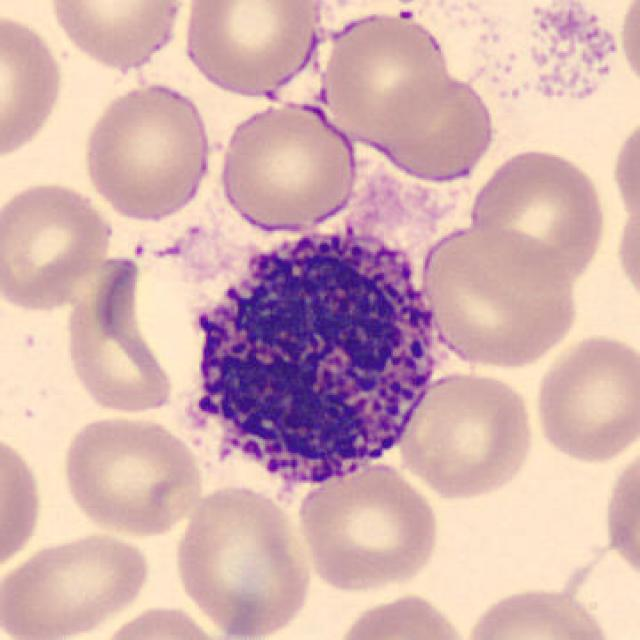Basophil: (169, 214, 457, 512)
RBC: (414, 222, 583, 370), (169, 482, 315, 638), (62, 250, 190, 416), (292, 458, 442, 596), (468, 144, 610, 288), (78, 79, 215, 224), (215, 98, 361, 234), (57, 409, 206, 540), (396, 366, 538, 501), (315, 7, 453, 143), (0, 527, 155, 640), (0, 176, 117, 313), (368, 69, 500, 185), (530, 330, 638, 467), (180, 0, 326, 99), (0, 9, 68, 166), (43, 0, 192, 71), (461, 582, 618, 640), (329, 589, 473, 640), (0, 426, 48, 576), (599, 436, 640, 592), (91, 603, 231, 640), (608, 109, 638, 231), (612, 196, 638, 314), (617, 0, 640, 100)
